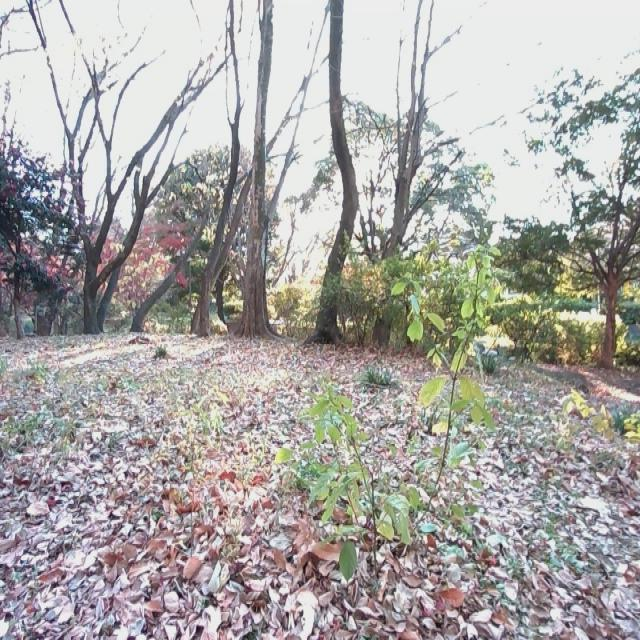bush: (291, 225, 506, 546), (507, 297, 602, 366)
tree: (31, 0, 223, 338), (188, 0, 292, 339), (224, 0, 302, 341), (549, 137, 640, 370), (297, 0, 360, 336), (378, 0, 470, 229)
